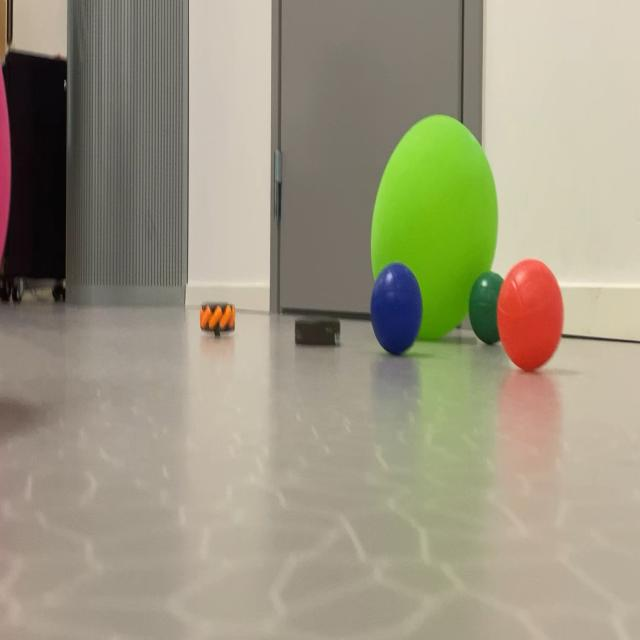7: (495, 246, 571, 410)
green ball: (362, 253, 430, 383)
red ball: (462, 260, 514, 363)
